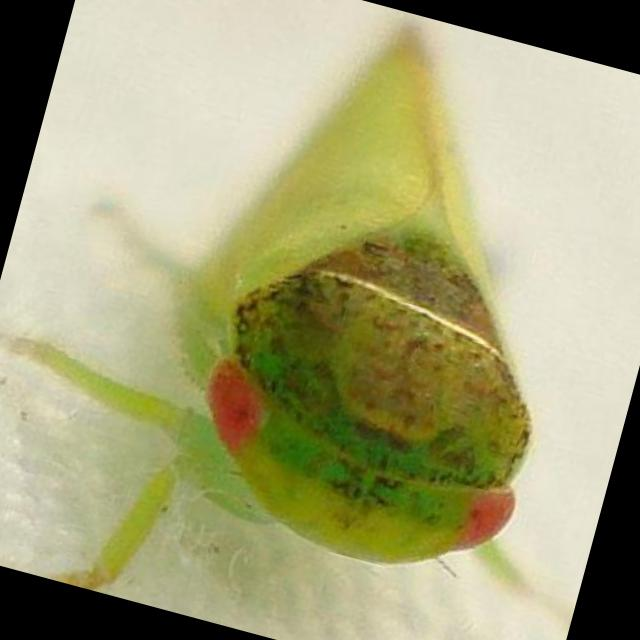green-leafhopper: (134, 17, 636, 601)
